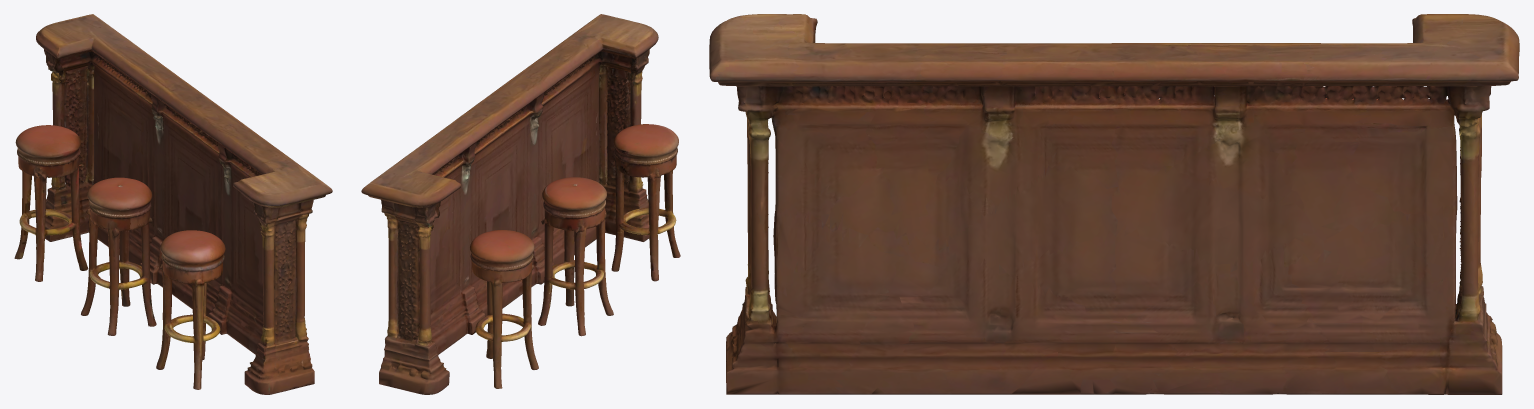
The model's file is bar stand.glb.
3 views of the same model, side by side, from view 1: azimuth 30°, elevation 25°; view 2: azimuth 150°, elevation 25°; view 3: azimuth 270°, elevation 25° (orthographic). The views are drawn at different scales.
Bounding box in the file's own units: 0.5929 × 0.9264 × 2.
1 material, 1 textured.
